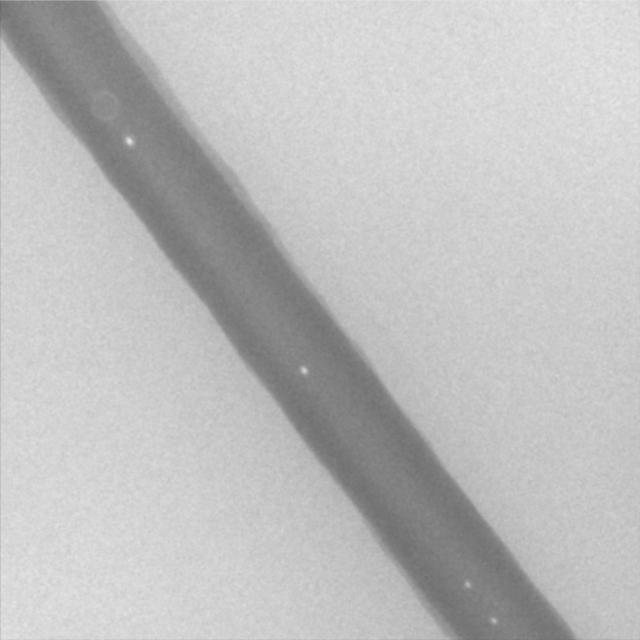air hole: (122, 134, 134, 148), (297, 363, 309, 376), (462, 579, 472, 591), (488, 614, 498, 626)
hollow bead: (88, 87, 119, 125)
